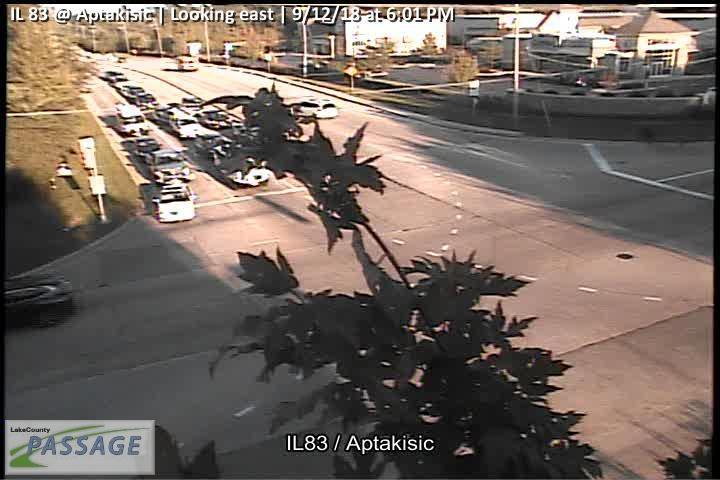Sedan: (152, 184, 196, 223), (147, 147, 192, 183), (290, 98, 339, 119)
